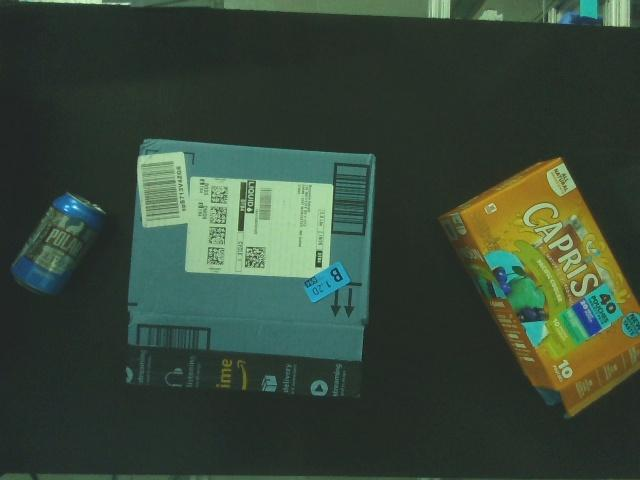cardboard: (118, 134, 380, 404), (435, 153, 640, 425)
metal: (8, 189, 114, 303)
